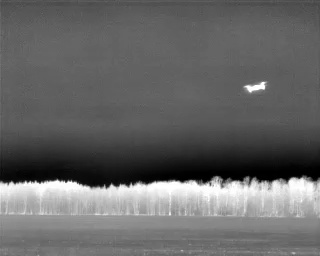DRONE: (240, 77, 271, 98)
